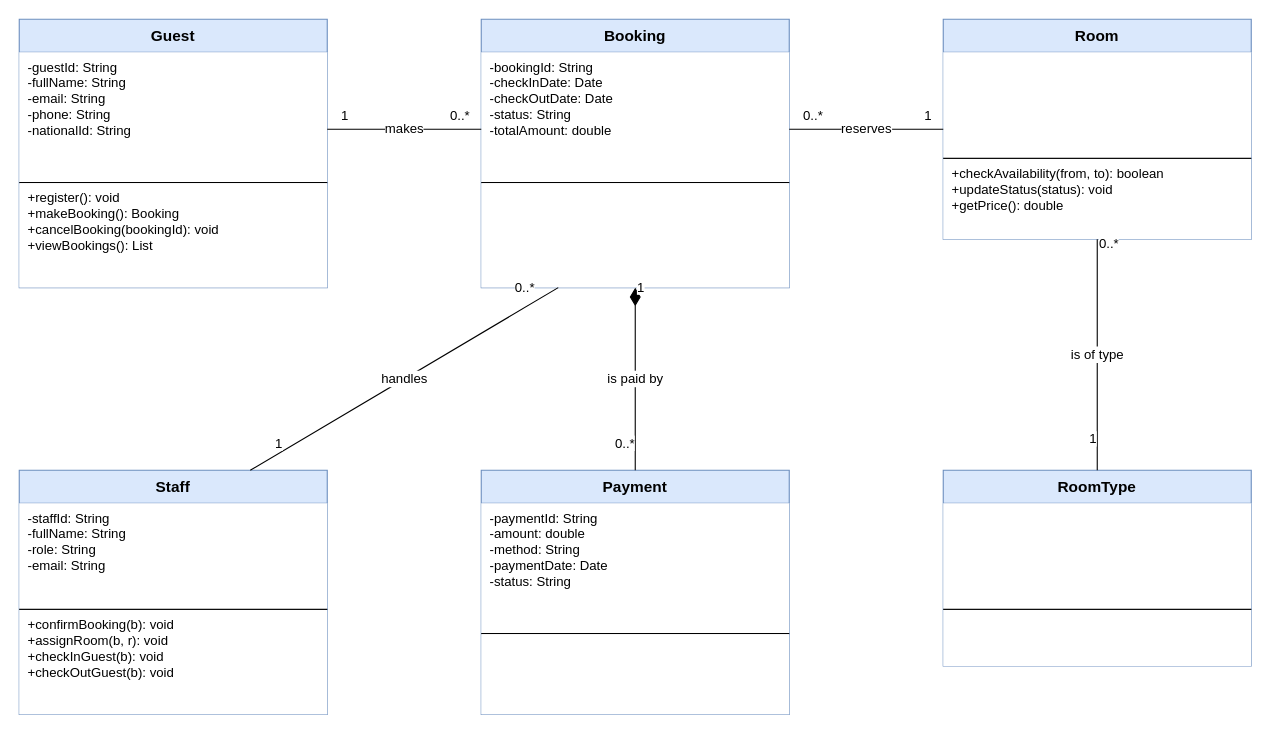
The diagram is 1271 pixels wide and 734 high, and some of its shapes have lost their labels. Here are the shapes that lost their labels. From the top down, the centre of each, then its label:
the point at 1097,104: -roomId: String -roomNumber: String -floor: int -status: String
the point at 635,235: +confirm(): void +cancel(): void +calculateTotal(): double +modify(): void
the point at 1097,555: -typeId: String -typeName: String -pricePerNight: double -capacity: int
the point at 1097,637: +updatePrice(price): void +getDetails(): String
the point at 635,674: +processPayment(): boolean +refund(): void +generateReceipt(): String
